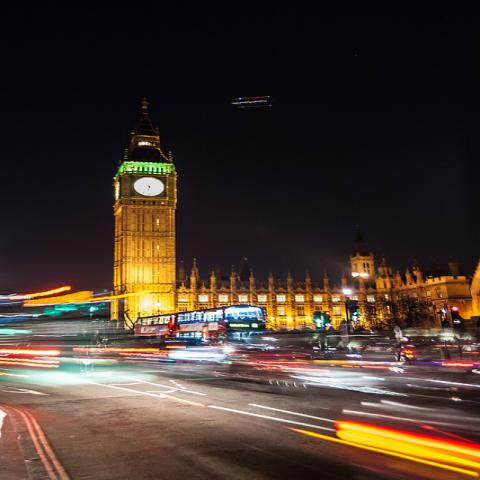bus: (131, 304, 269, 336)
